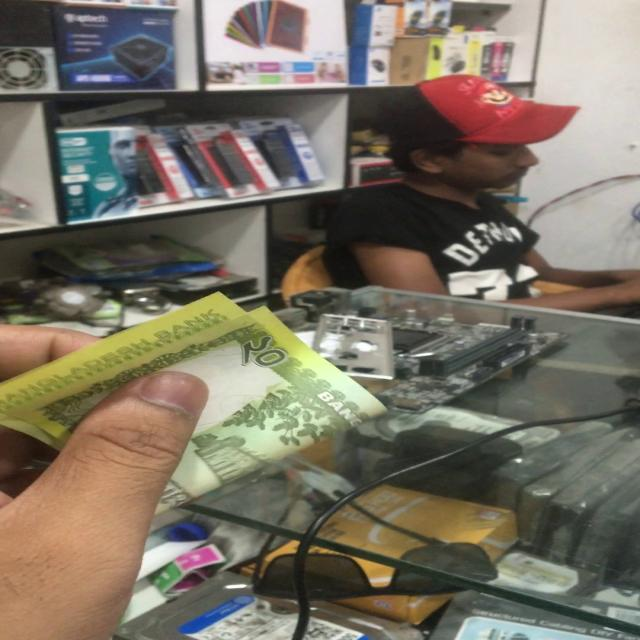Taka: (0, 291, 379, 517)
